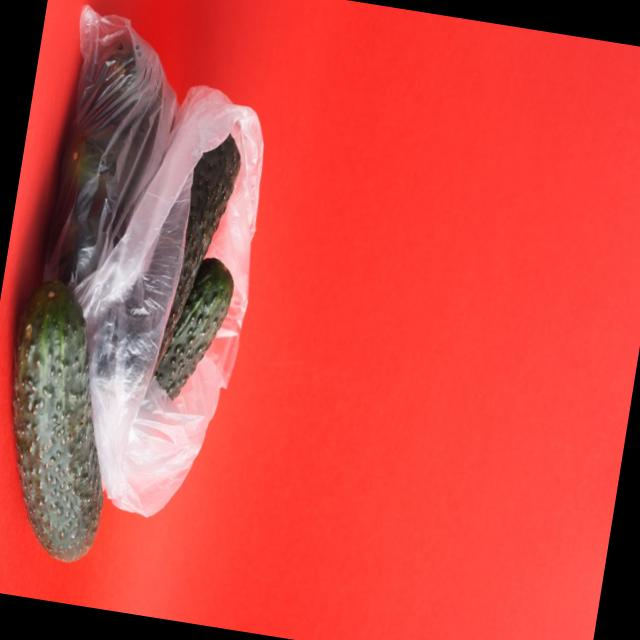plastic_bag: (45, 0, 301, 588)
